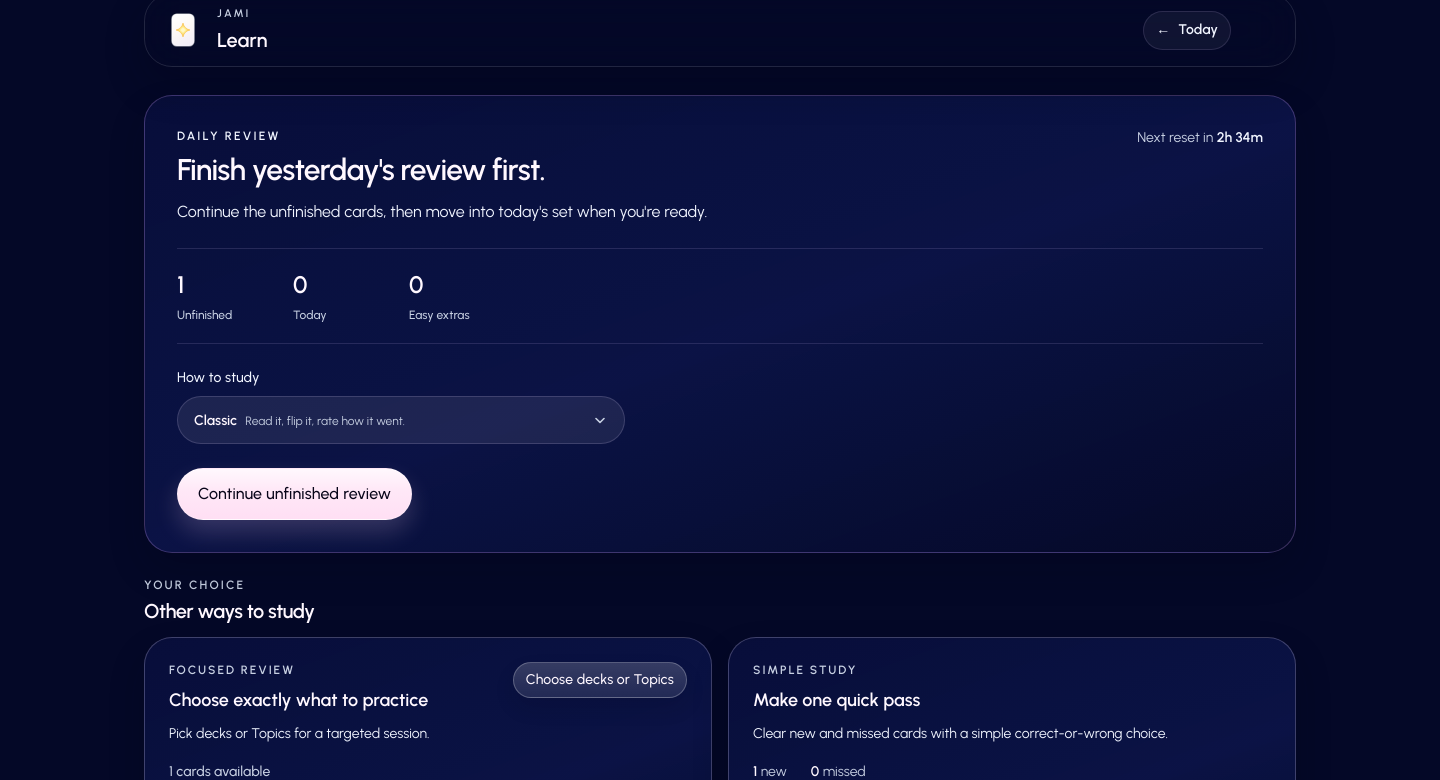
it: Learn home layout › opens the Focused Review builder through its accessible disclosure
This screenshot has width=1440, height=780.
Step 1. Click the button "Choose decks or Topics" → (600, 680), box [513,662,687,698]
(page scrolled)
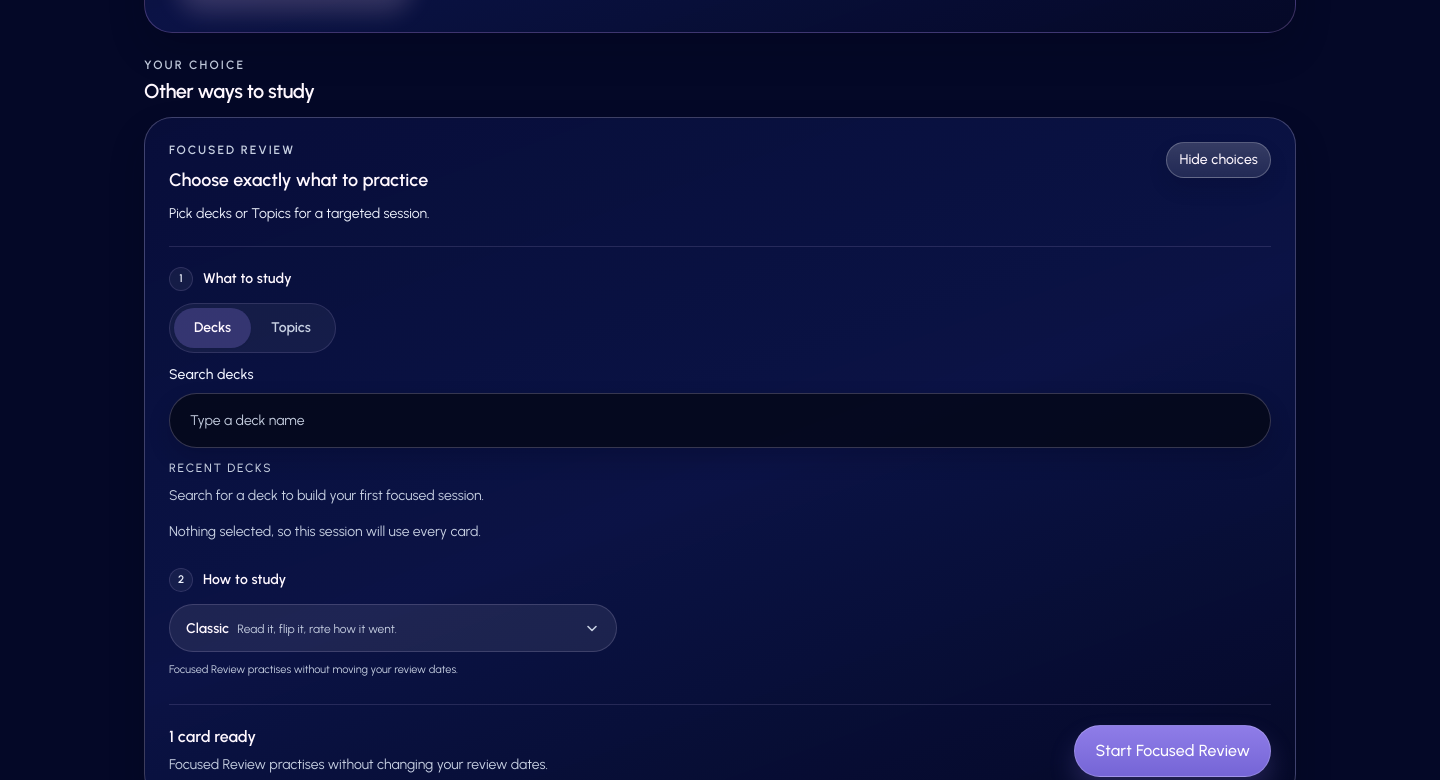
Check: the button "Hide choices" is expanded, box [1166,142,1271,178]
Check: the element with id "focused-review-builder" is shown, box [169,246,1271,777]
Check: the element named "Focused Review filter type" is shown, box [169,303,336,353]
